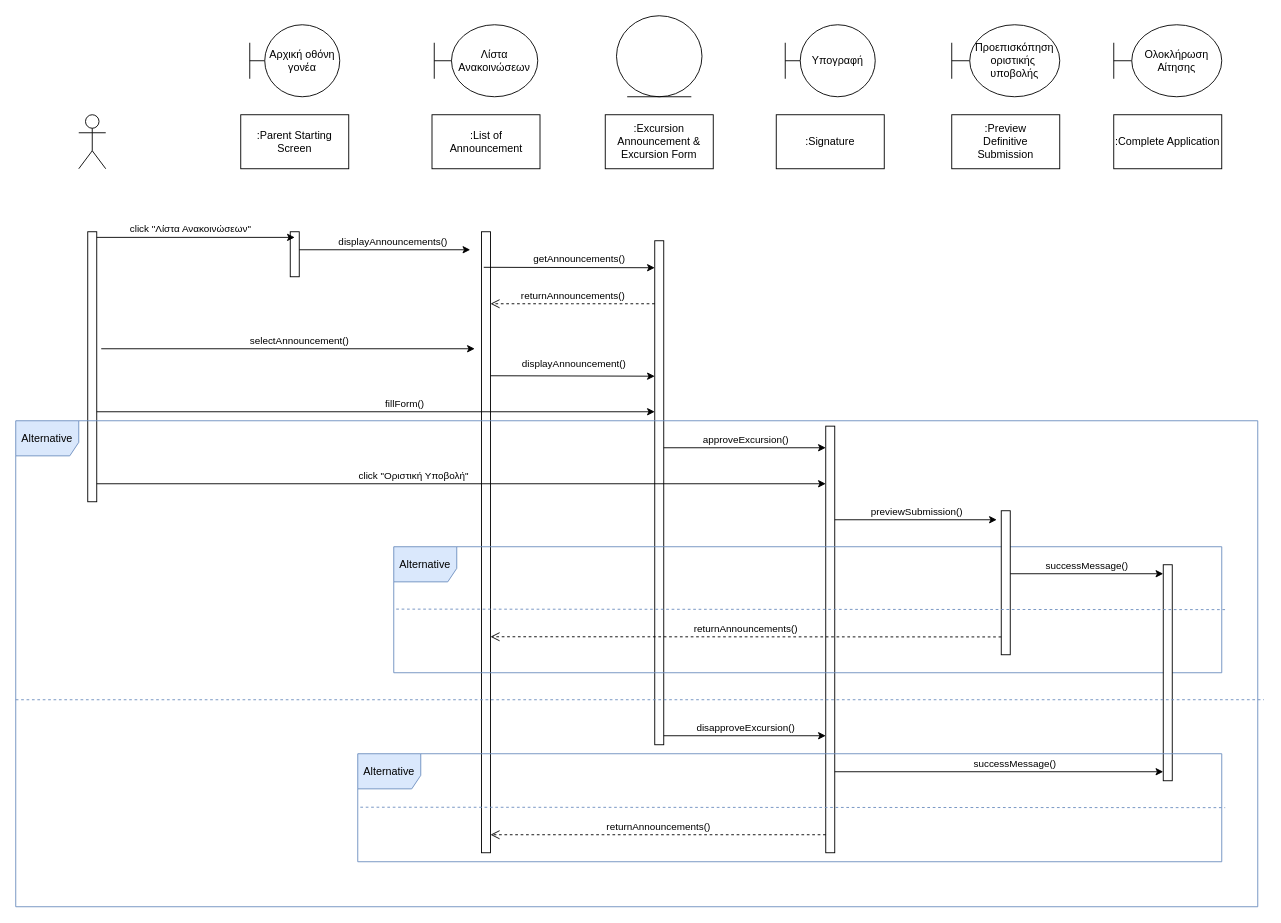
Some shapes in this 1281 by 923 pixel diagram are drawn without their labels. The box of each missing label's shape, as (x1, y1, x2, y2) in pixels:
Ανακοίνωση Εκδρομής & Φόρμα Εκδρομής: (616, 15, 702, 97)
Γονέας: (78, 114, 106, 169)
